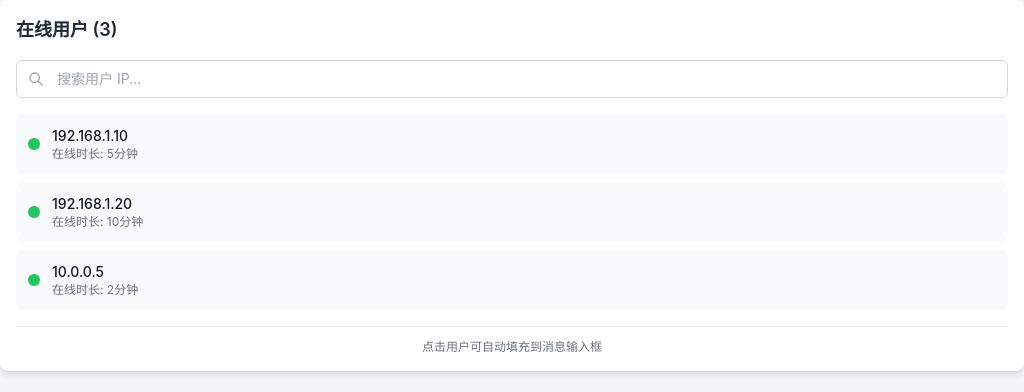
Scenario: OnlineUserList › clears search when clear button is clicked
Note: Type in search
In the field with placeholder "搜索用户 IP...": (512, 79) [16, 60, 1008, 98], type "192.168"
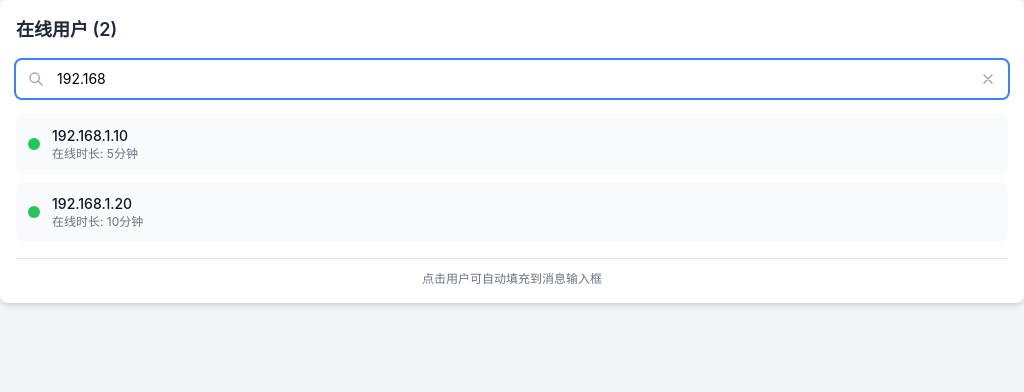
Note: Click clear button
Click the button: (994, 79) [980, 60, 1008, 98]
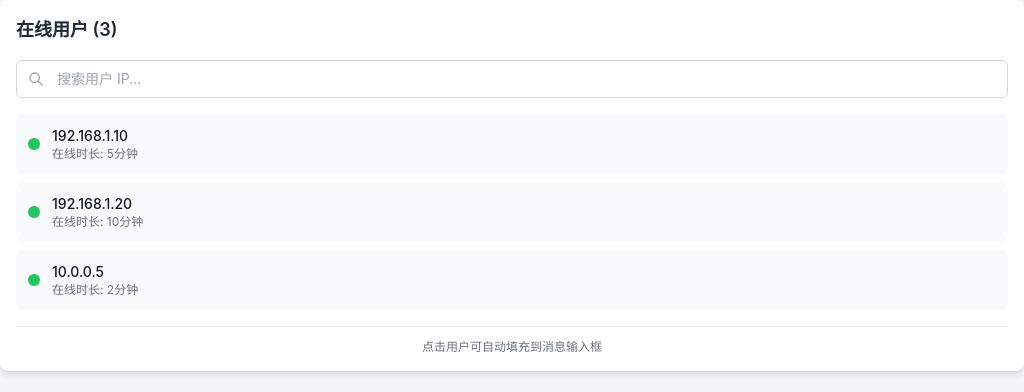
Now the field with placeholder "搜索用户 IP..." is empty, box [16, 60, 1008, 98]
Now the heading "在线用户 (3)" is shown, box [16, 16, 117, 44]
